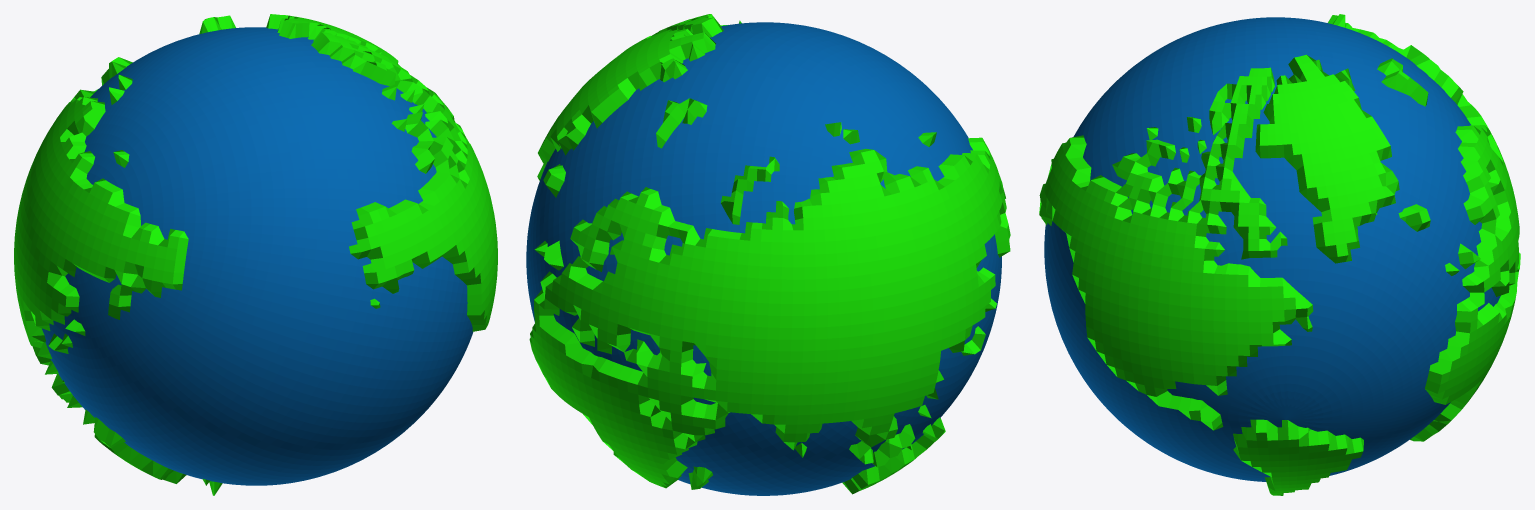
The model's file is eco-globe.glb.
3 views of the same model, side by side, from view 1: azimuth 30°, elevation 25°; view 2: azimuth 150°, elevation 25°; view 3: azimuth 270°, elevation 25° (orthographic). The views are drawn at different scales.
Parts seen in each view (by area): view 1: Eco Globe; view 2: Eco Globe; view 3: Eco Globe.
Boxes of the visible parts, <box> form: Eco Globe: <box>14,14,497,495</box>; Eco Globe: <box>526,14,1010,495</box>; Eco Globe: <box>1039,14,1520,495</box>.
Size of the model in its own units: 8.37 by 8.07 by 8.24.
